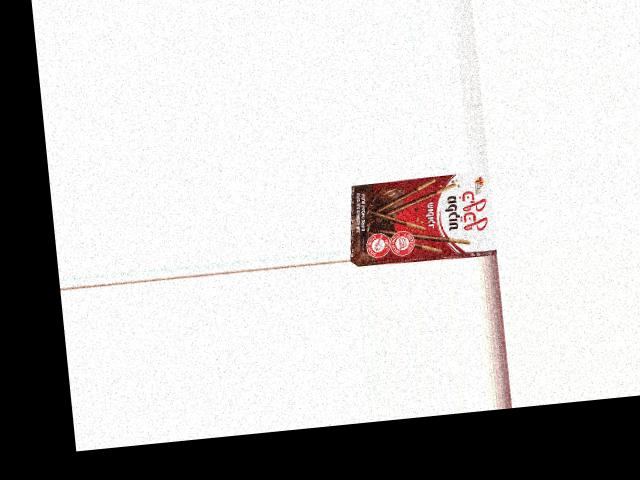chocolate: (352, 169, 496, 267)
